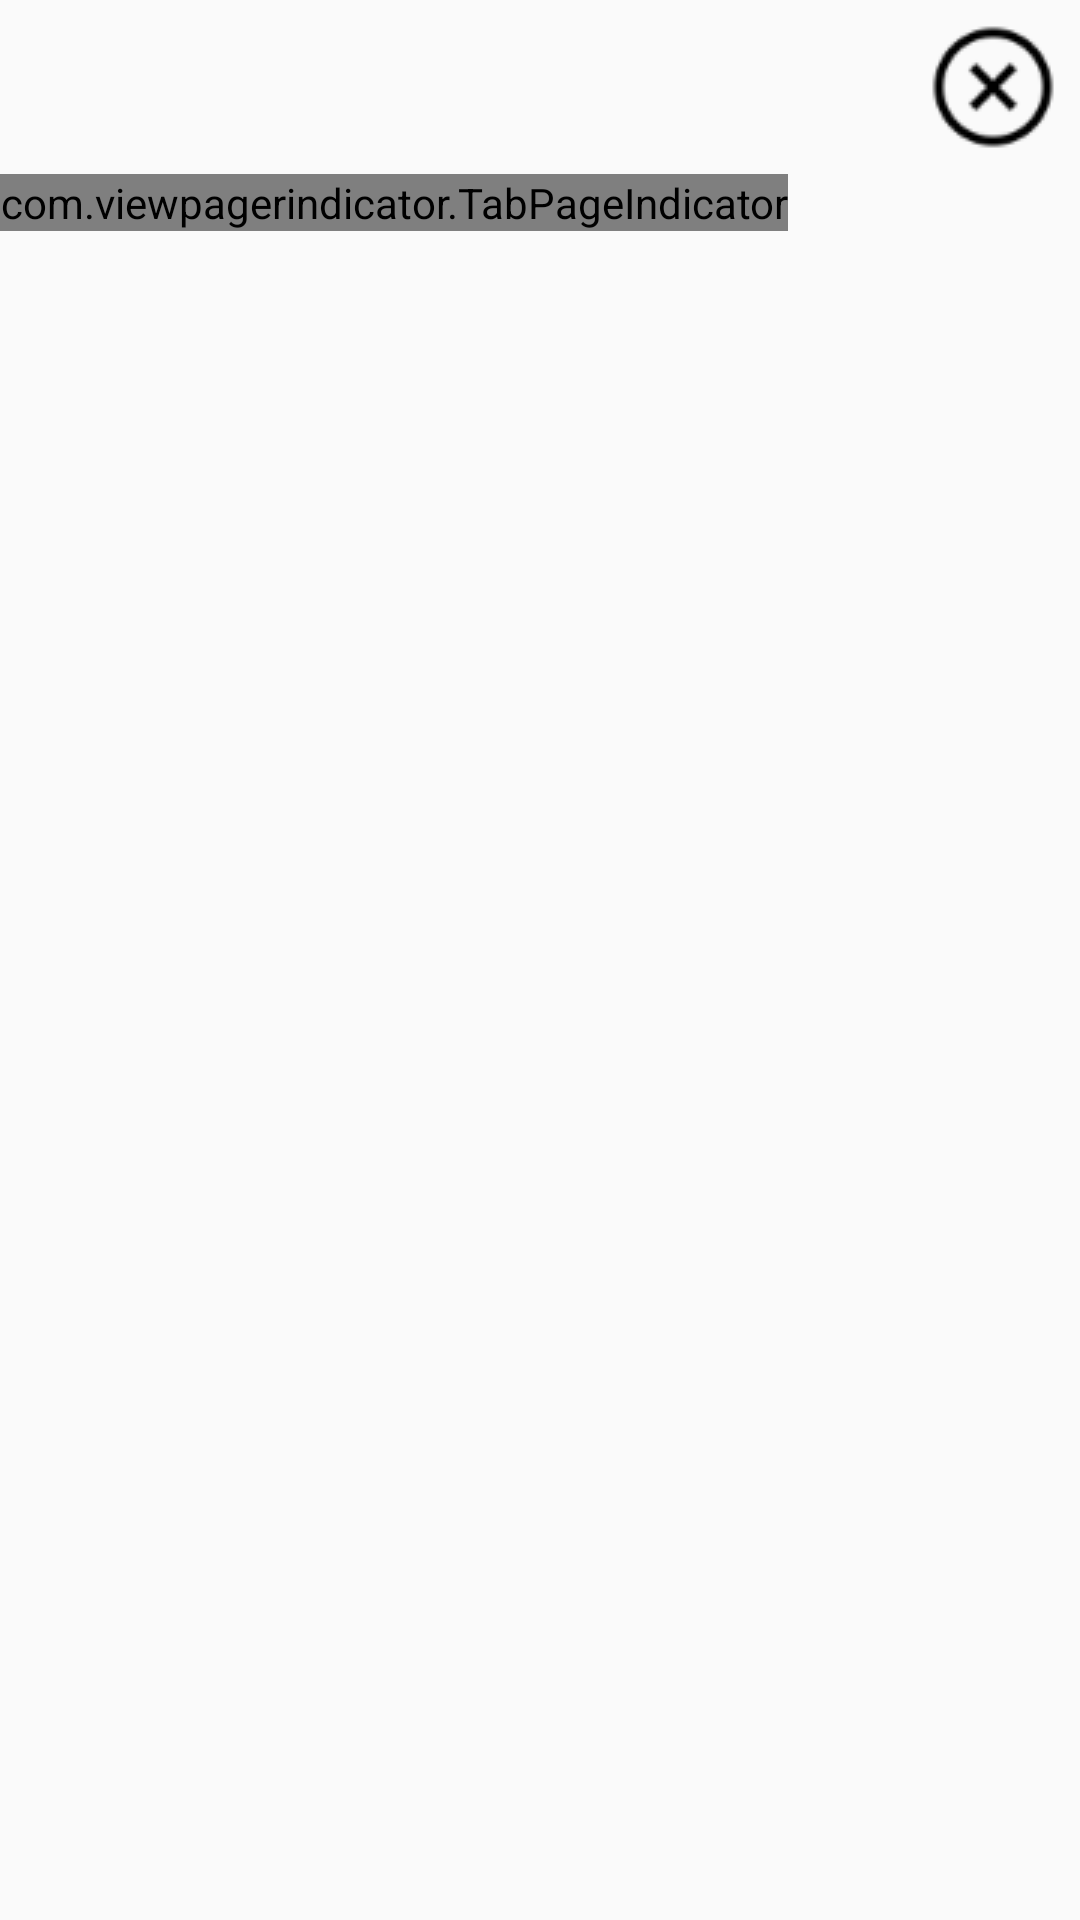

Named icons in this screenshot (1080×1920) and their centers, point (x, y):
close: point (993, 87)
